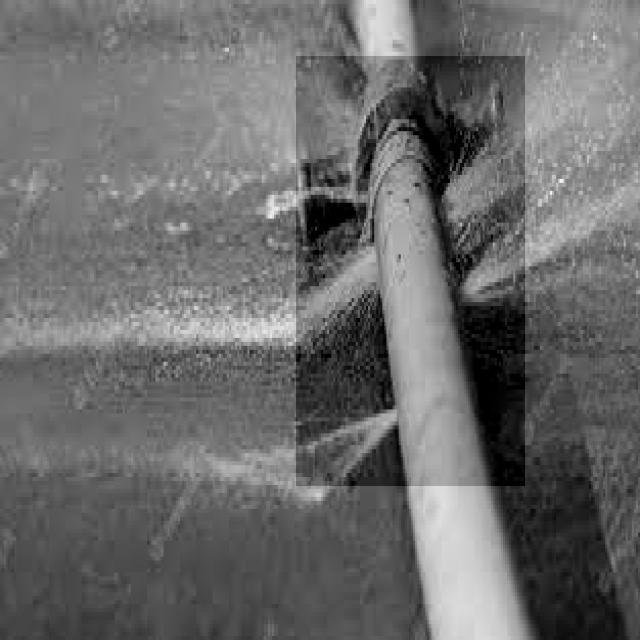corrosion: (287, 96, 478, 376)
